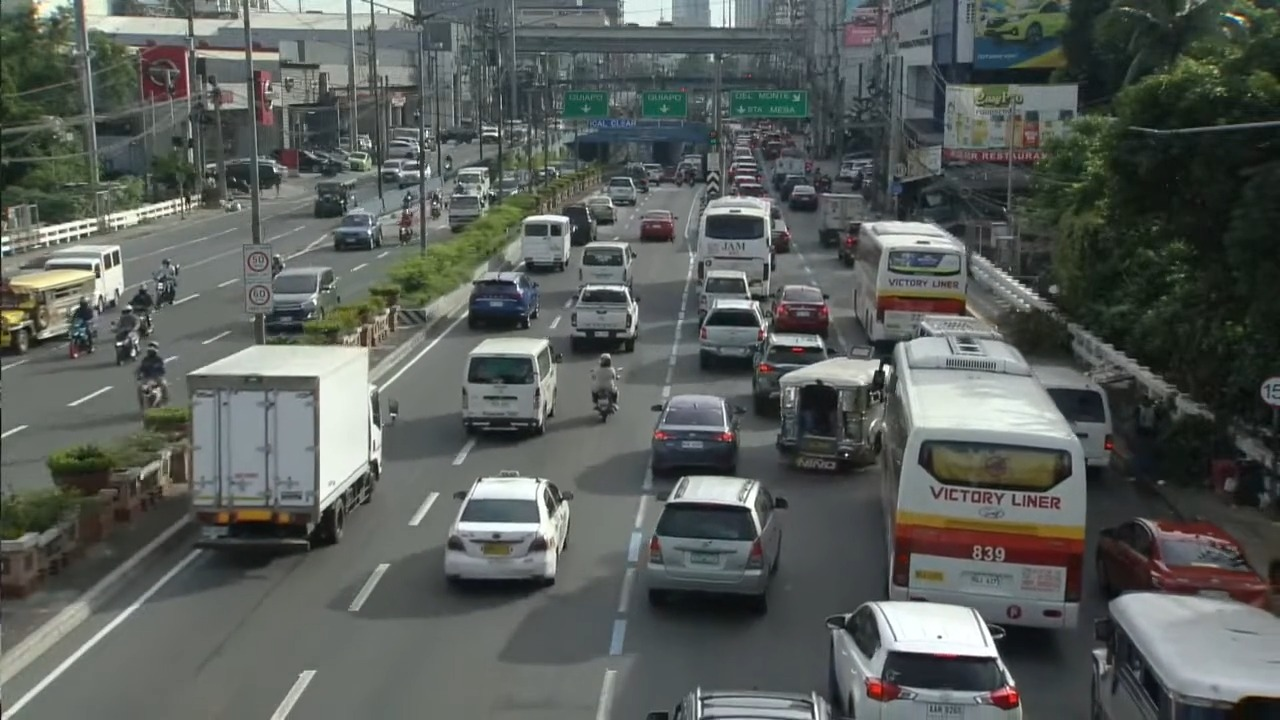bus: (880, 336, 1086, 628), (852, 221, 967, 342), (695, 198, 772, 298)
car: (826, 601, 1021, 719), (639, 475, 787, 613), (1095, 518, 1270, 608), (443, 471, 572, 585), (651, 394, 741, 476), (752, 333, 831, 414), (645, 688, 842, 719), (699, 298, 766, 369), (266, 266, 339, 331), (468, 271, 539, 328), (982, 0, 1069, 46), (770, 284, 829, 338), (332, 210, 381, 250), (560, 203, 597, 245), (639, 210, 675, 241), (771, 204, 791, 252), (584, 195, 616, 224), (606, 176, 637, 205), (787, 184, 818, 211), (779, 174, 807, 201), (398, 161, 423, 188), (379, 159, 405, 183), (440, 126, 476, 143), (728, 163, 762, 181), (496, 177, 524, 198), (347, 152, 372, 171), (738, 182, 768, 197), (644, 163, 663, 183), (479, 125, 500, 143), (731, 174, 754, 190), (770, 171, 788, 191), (733, 146, 753, 162), (659, 166, 676, 183), (634, 177, 650, 193)
motorcycle: (68, 319, 93, 358), (114, 331, 138, 365), (139, 378, 164, 410), (593, 391, 617, 422), (595, 392, 616, 422), (154, 276, 175, 306), (134, 308, 153, 336), (398, 211, 413, 245), (398, 225, 413, 245), (272, 262, 284, 278), (430, 202, 440, 218), (443, 156, 452, 172)
truck: (186, 345, 397, 550), (570, 283, 639, 351), (819, 193, 867, 265), (447, 191, 487, 232), (774, 155, 807, 175)
